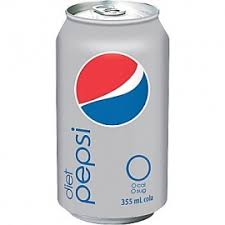can: (51, 1, 171, 224)
